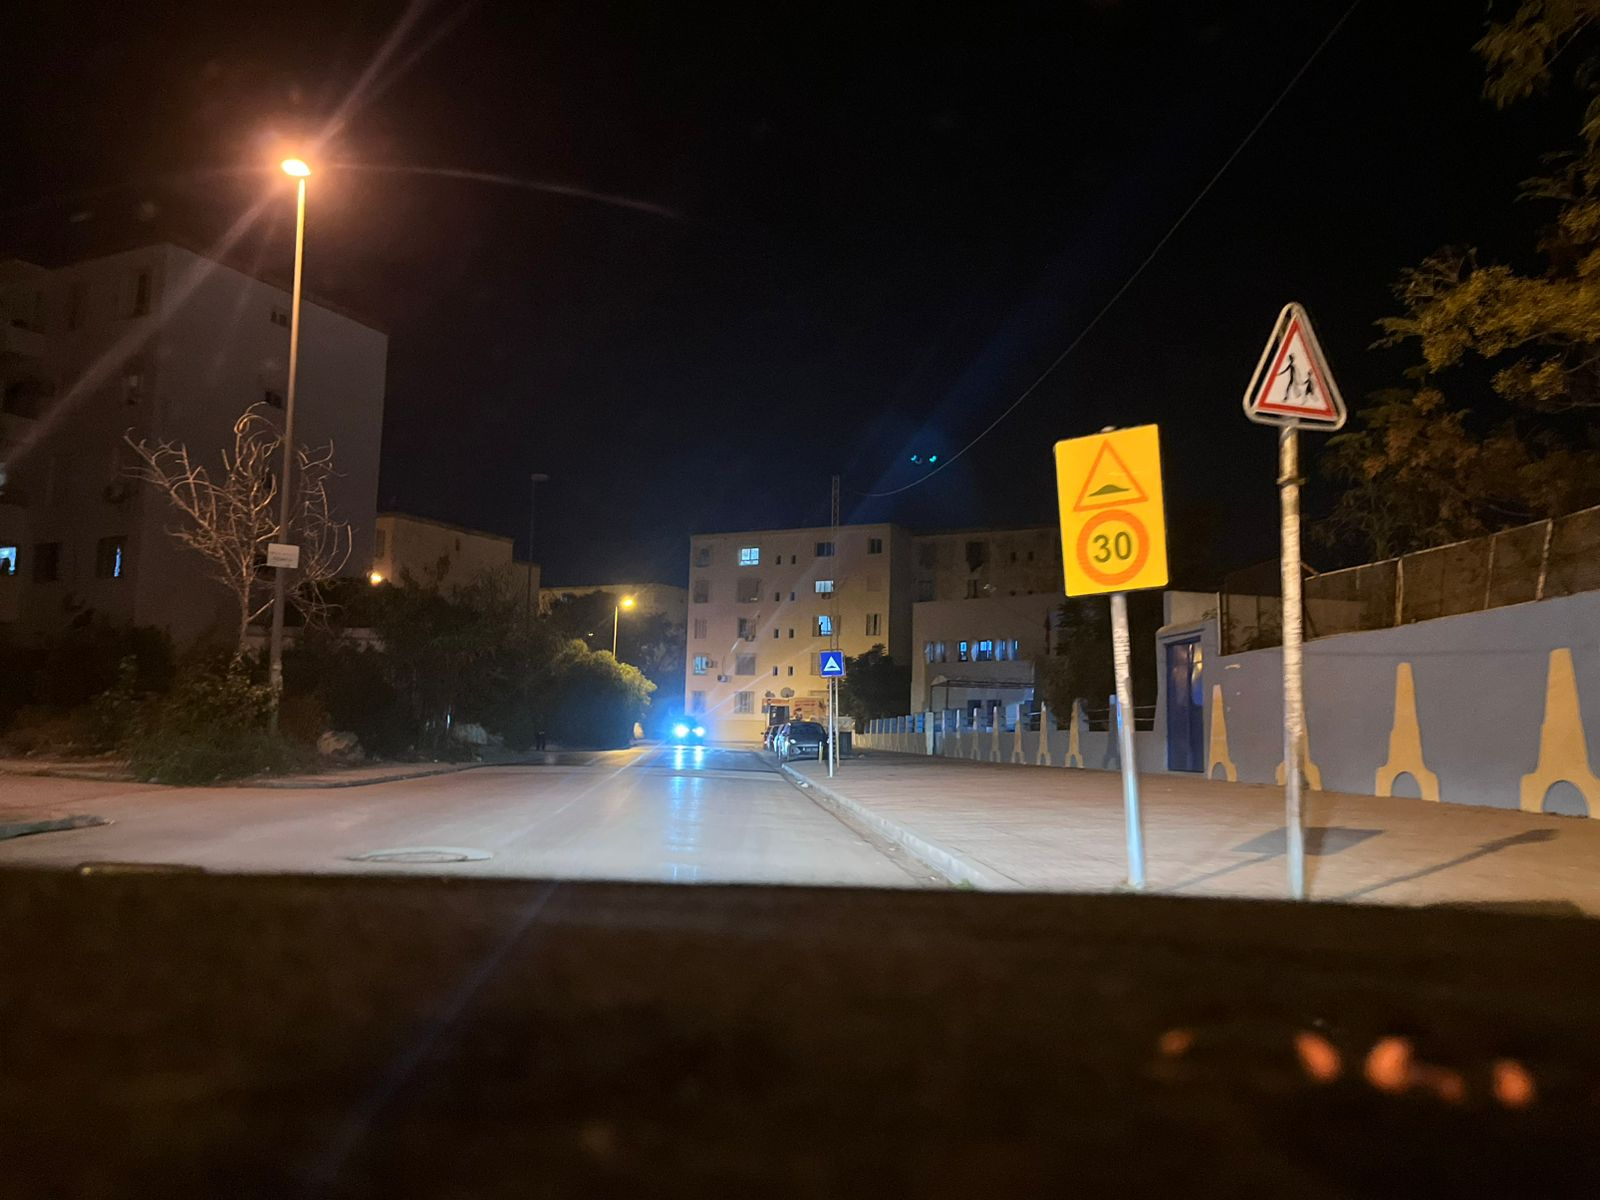SpeedLimit30: (1053, 424, 1170, 597)
